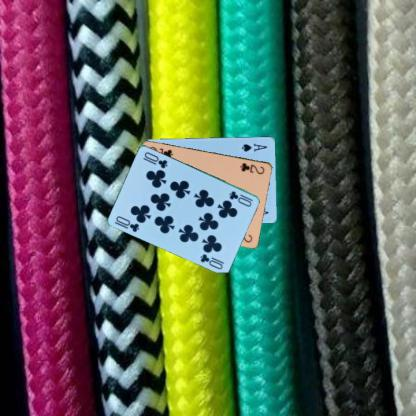10c: (227, 188, 254, 208), (114, 214, 141, 234)
2c: (237, 160, 266, 175)
As: (239, 140, 268, 152)
